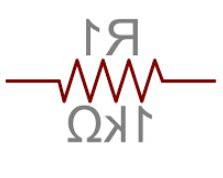resistor: (51, 55, 167, 103)
